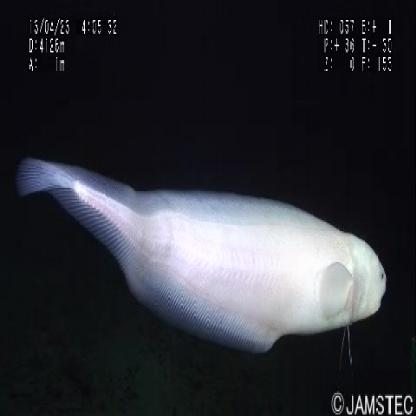Bio: (15, 156, 388, 359)
